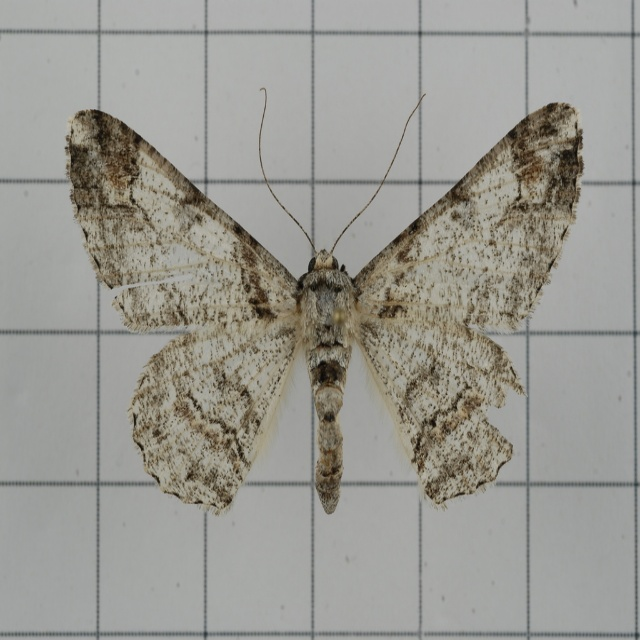Butterfly: (74, 89, 598, 520)
